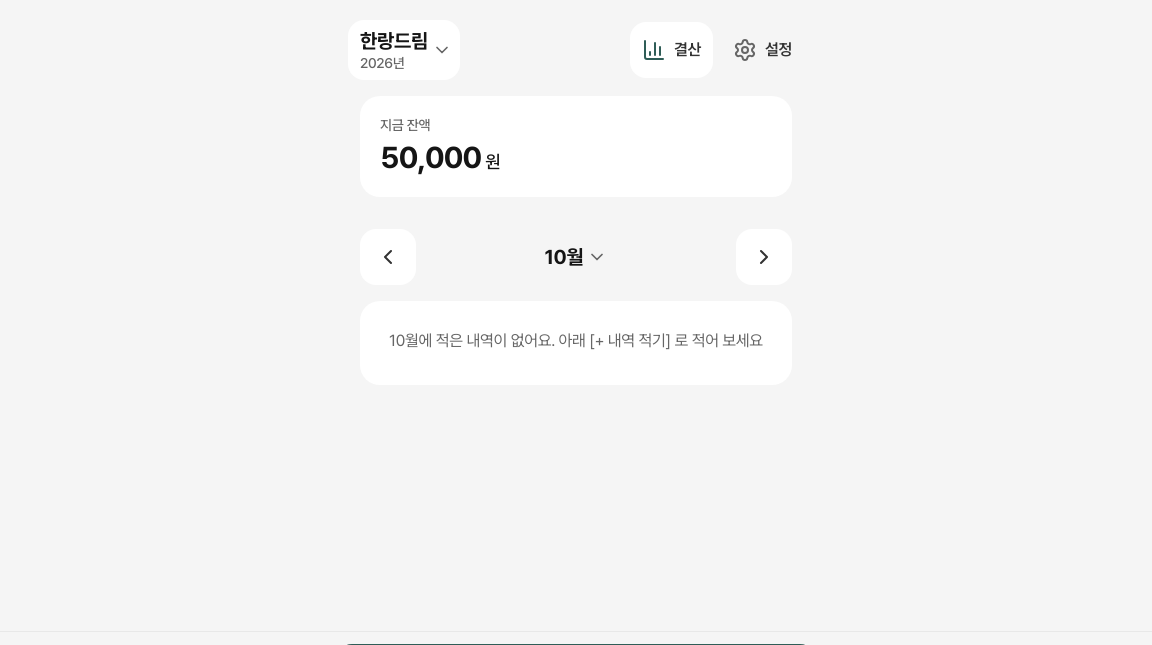
Test: SPEC-002 30일 백업 안내 › 설정 > 기록 지키기 [기록 파일 보내기] 줄의 마지막 백업 날짜 › 마지막 백업 날짜를 보여 준다
The width and height of the screenshot is (1152, 645).
Click the button "설정": (762, 50) [721,22,804,78]
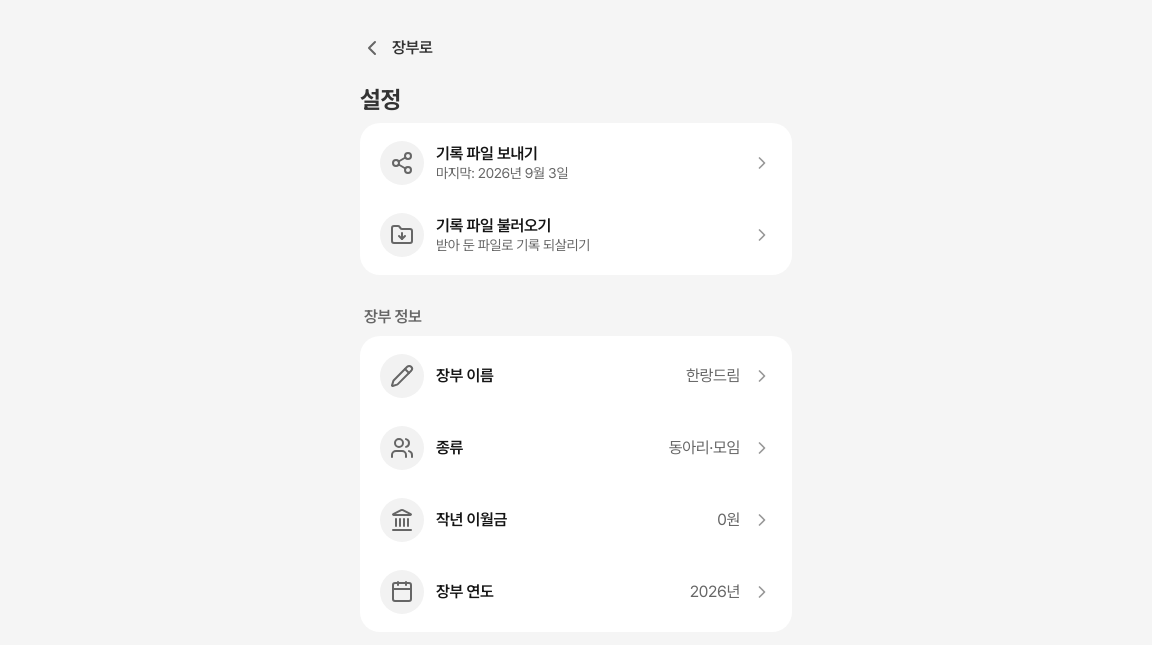
Result: the text "마지막: 2026년 9월 3일" is shown at [436,166,568,182]
